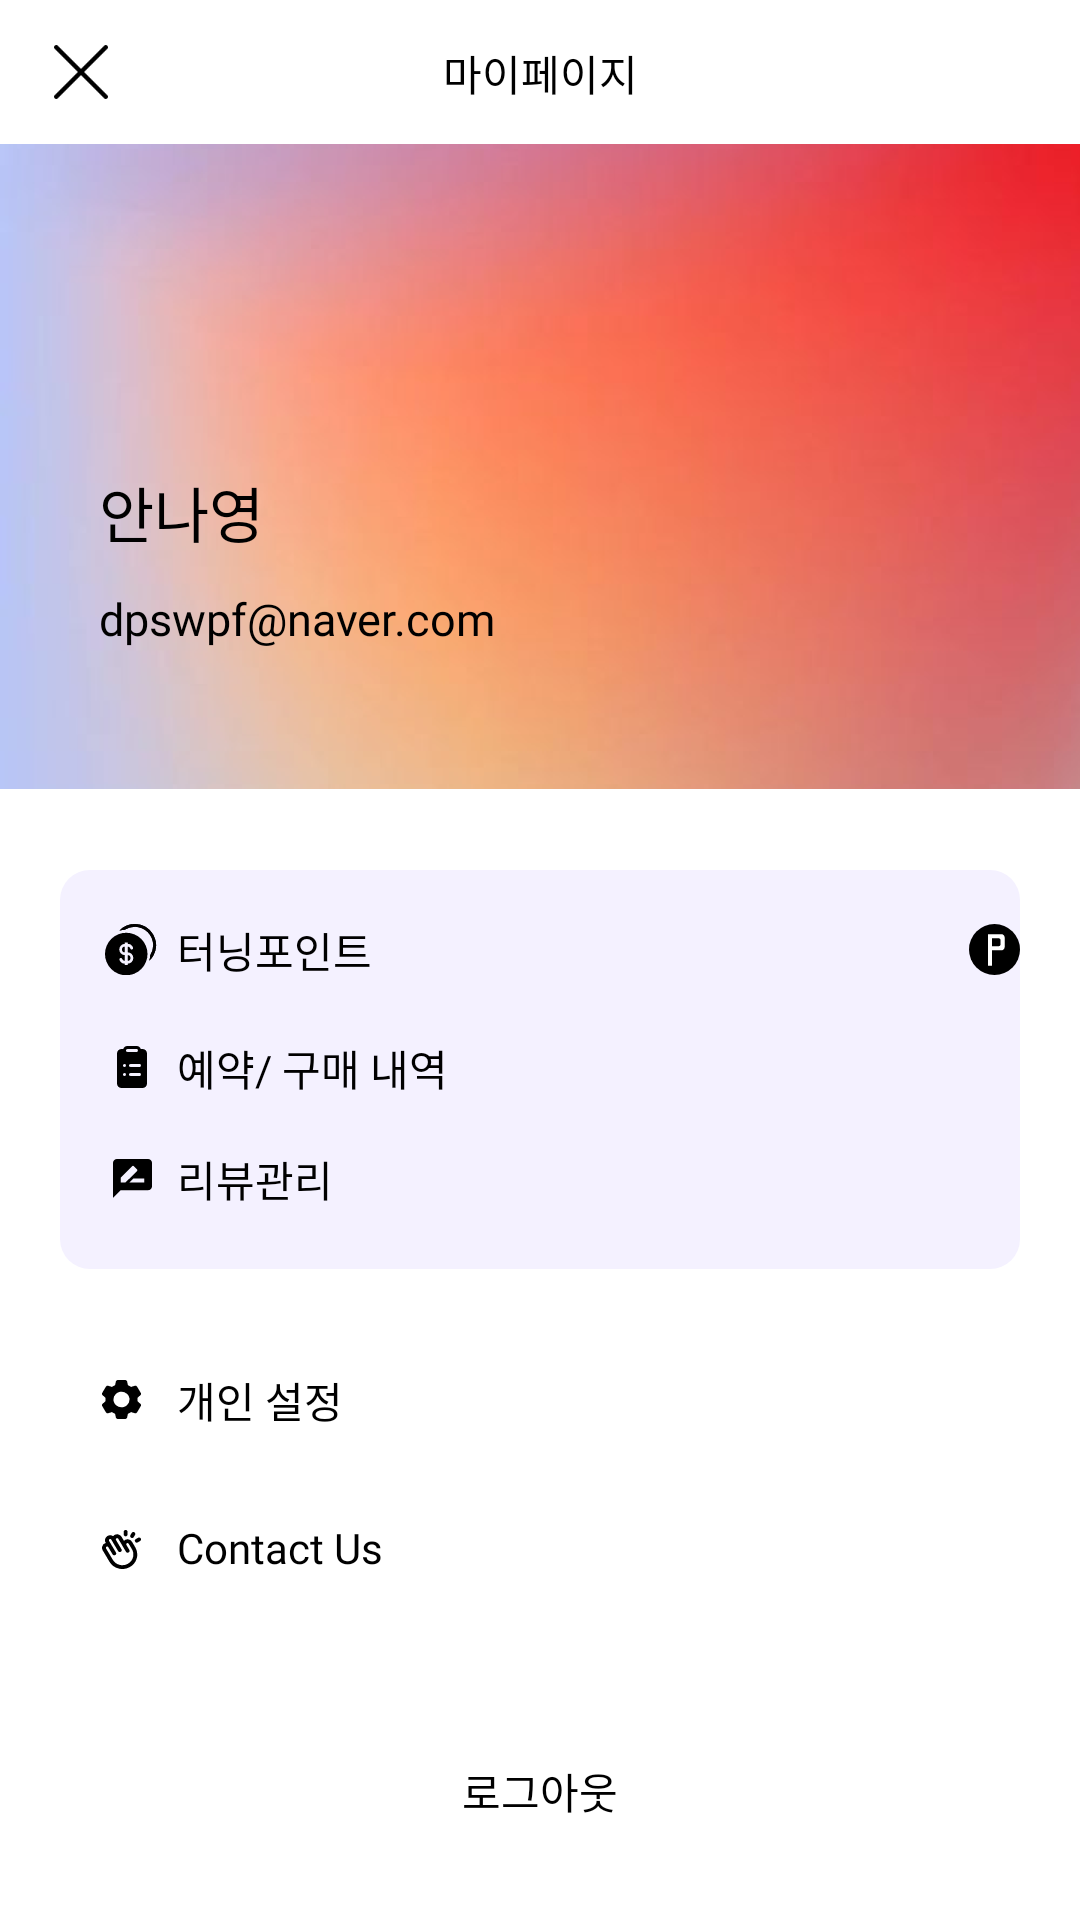

Point at icon controls on the screen. Image size 1080*1920, points as [x,y].
cancel: [81,72]
register: [132,1067]
reviews: [132,1178]
settings: [121,1399]
